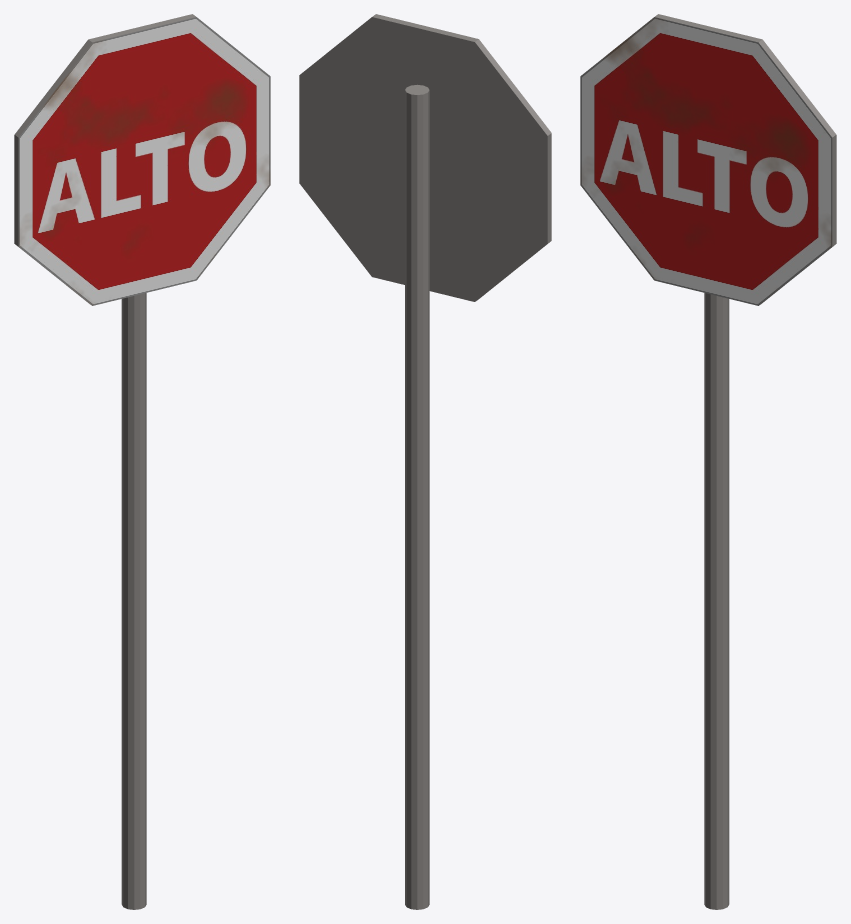
File: senal.fbx
The picture shows the model from 3 angles, left to right: view 1: azimuth 30°, elevation 25°; view 2: azimuth 150°, elevation 25°; view 3: azimuth 330°, elevation 25°; orthographic projection.
Visible parts, largest first — view 1: senal; view 2: senal; view 3: senal.
Boxes of the visible parts, left/top/right/bottom form: senal: left=14, top=14, right=270, bottom=909; senal: left=299, top=14, right=551, bottom=909; senal: left=580, top=14, right=836, bottom=909.
Bounding box in the file's own units: 0.7021 × 2.35 × 0.08.
Materials: 1 (1 with a texture image).
